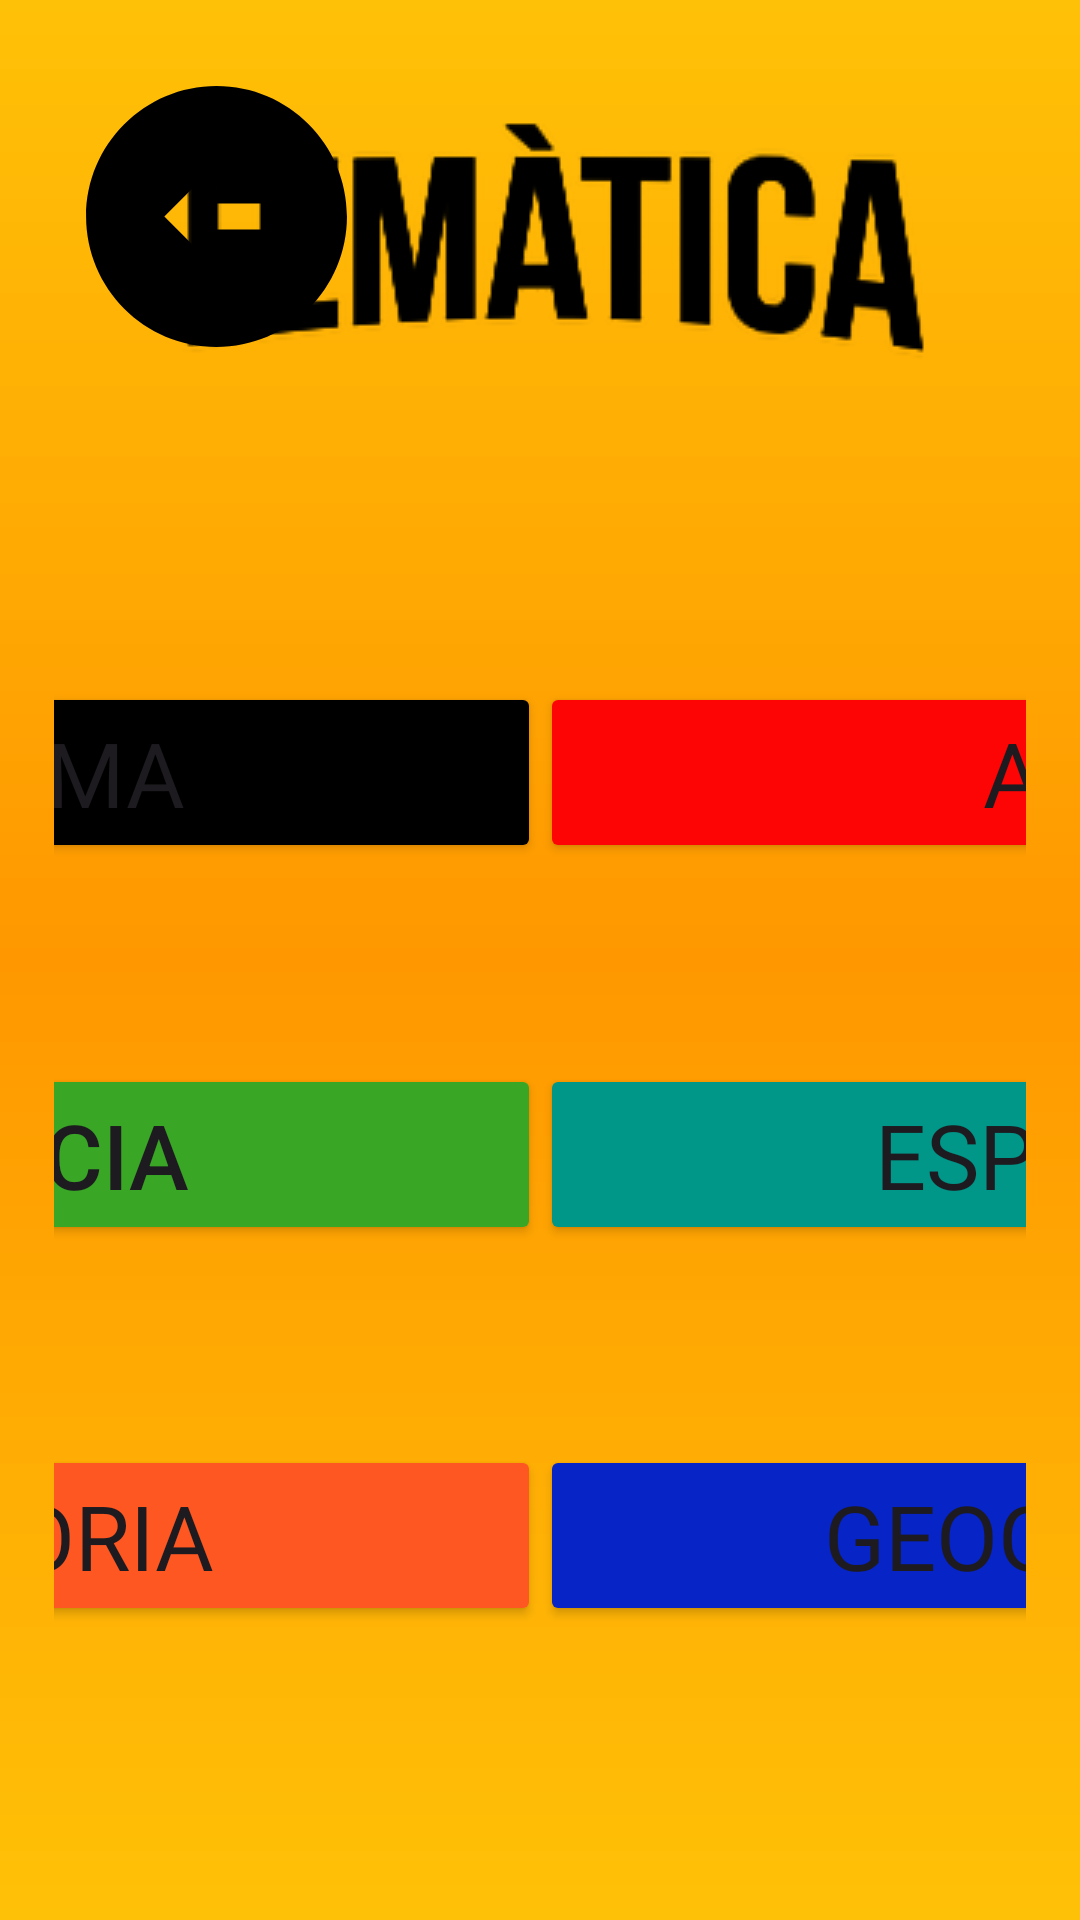

Screen size 1080px×1920px. Icon name, then its center in pixels as (x,y):
arrow circle left: (216,216)
